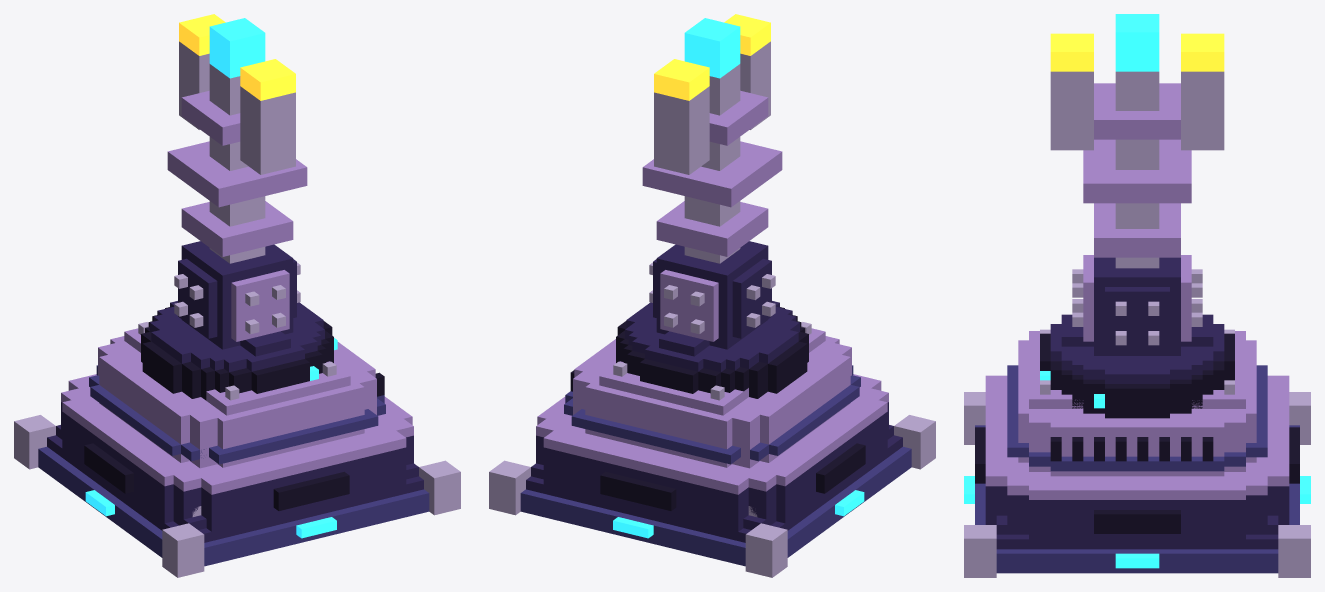
Rendered from relay-beacon.md.glb.
The picture shows the model from 3 angles, left to right: view 1: azimuth 30°, elevation 25°; view 2: azimuth 150°, elevation 25°; view 3: azimuth 270°, elevation 25°; orthographic projection. The views are drawn at different scales.
Visible parts, largest first — view 1: relay-beacon.md; view 2: relay-beacon.md; view 3: relay-beacon.md.
Boxes of the visible parts, left/top/right/bottom form: relay-beacon.md: left=14, top=14, right=460, bottom=577; relay-beacon.md: left=489, top=14, right=935, bottom=577; relay-beacon.md: left=964, top=14, right=1310, bottom=577.
Bounding box in the file's own units: 2 × 3.06 × 2.
